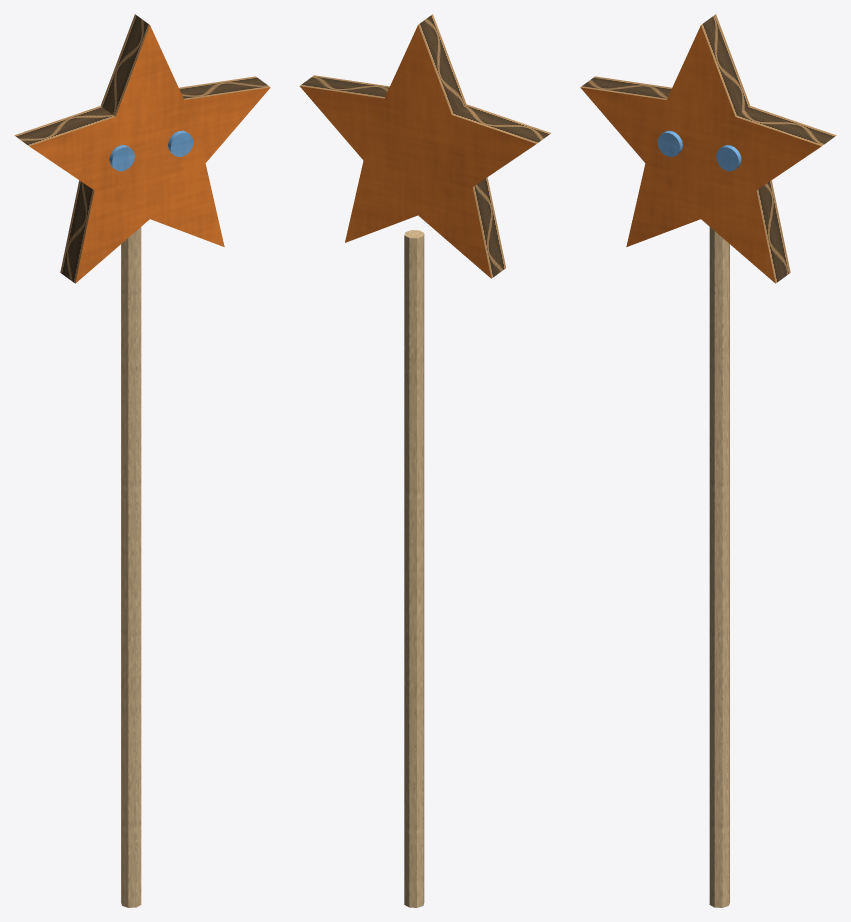
Rendered from goal_star_2.gltf.
3 renders of one model, left to right at view 1: azimuth 30°, elevation 25°; view 2: azimuth 150°, elevation 25°; view 3: azimuth 330°, elevation 25°, orthographic.
Visible parts, largest first — view 1: goal_star_2; view 2: goal_star_2; view 3: goal_star_2.
Boxes of the visible parts, <box> form: goal_star_2: <box>14,14,270,907</box>; goal_star_2: <box>299,14,551,907</box>; goal_star_2: <box>580,14,836,907</box>.
Bounding box in the file's own units: 0.7418 × 2.62 × 0.143.
Materials: 4 (4 with a texture image).
